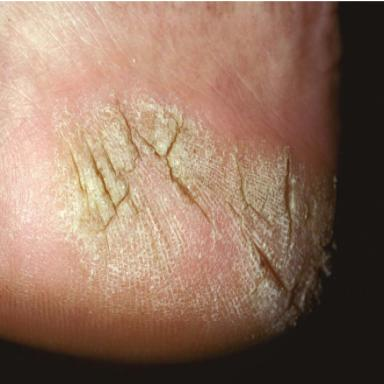eczema: (61, 91, 338, 337)
